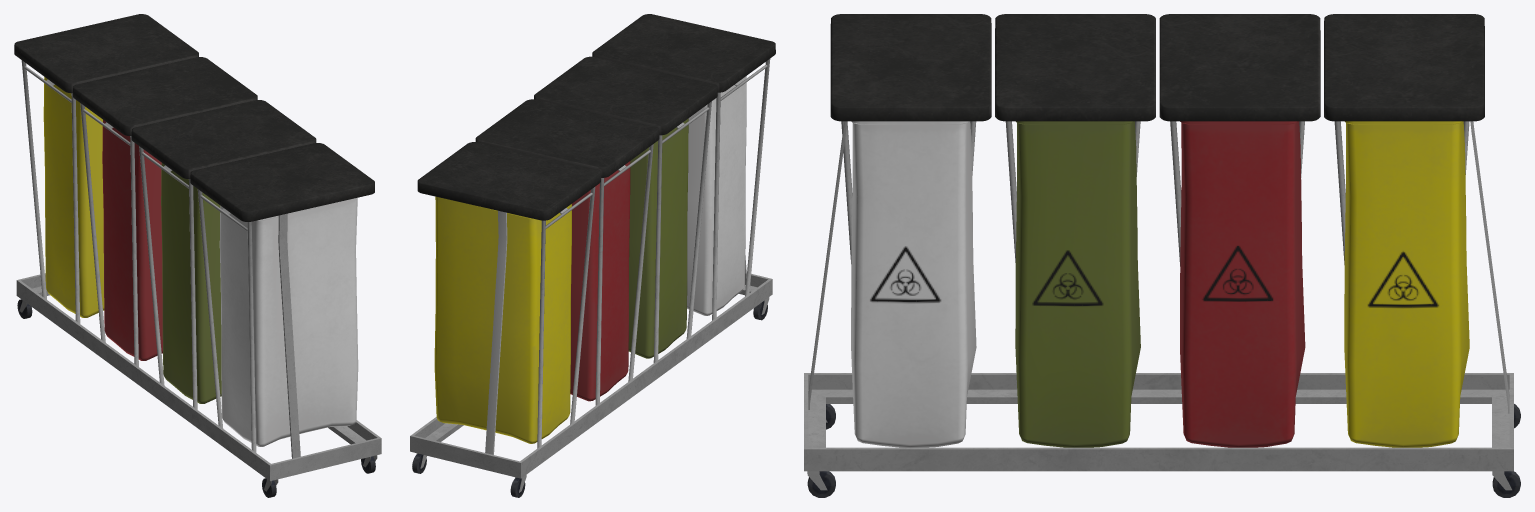
The model's file is Dustbin.fbx.
3 renders of one model, left to right at view 1: azimuth 30°, elevation 25°; view 2: azimuth 150°, elevation 25°; view 3: azimuth 270°, elevation 25°, orthographic. The views are drawn at different scales.
Parts seen in each view (by area): view 1: Dustbin; view 2: Dustbin; view 3: Dustbin.
Boxes of the visible parts, x1,y1,x2,y2 form: Dustbin: (14, 14, 381, 497); Dustbin: (410, 14, 775, 497); Dustbin: (804, 14, 1520, 497).
Bounding box in the file's own units: 49.02 × 100 × 163.
